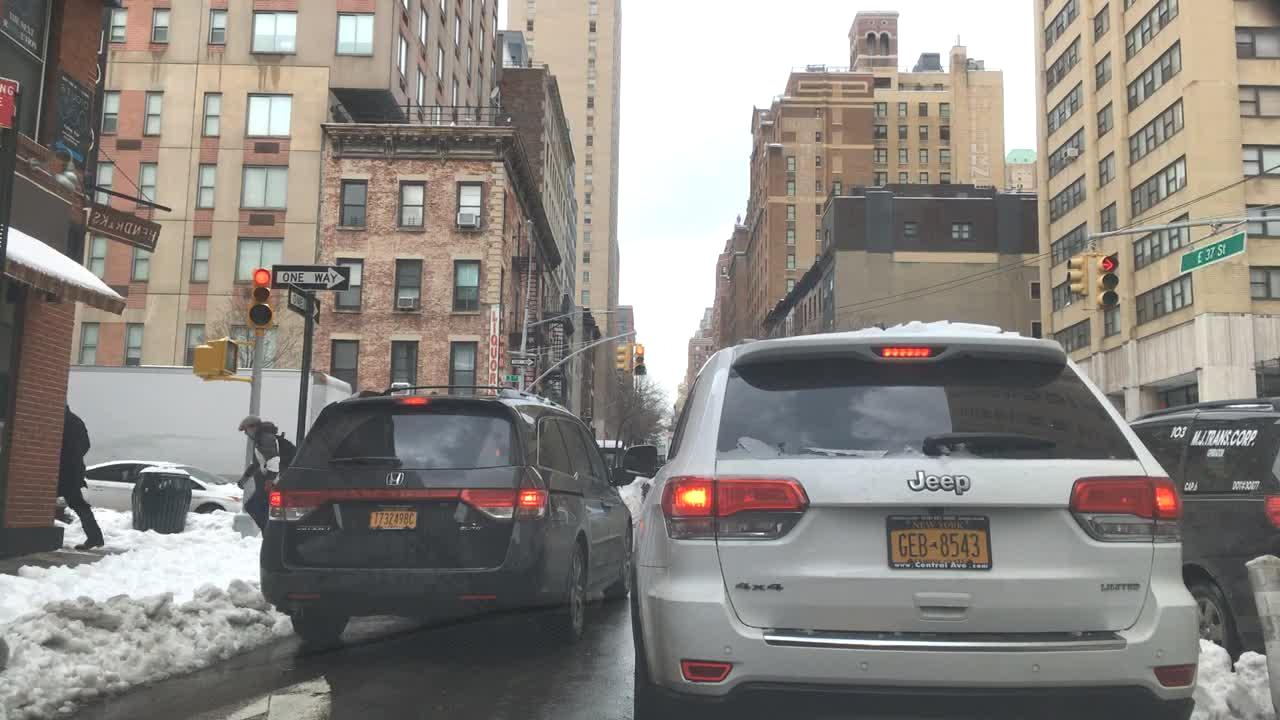Honda: (383, 468, 408, 494)
jeep: (899, 460, 984, 509)
